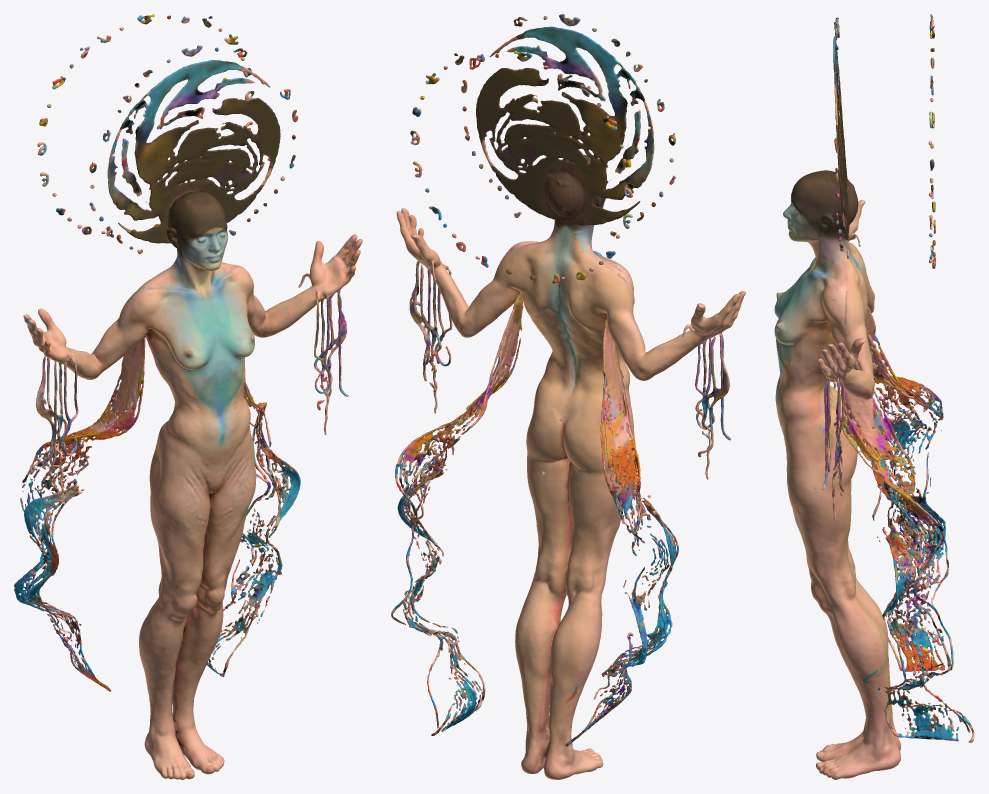
Rendered from Meshy_AI_AtAA_Invoker_to_infi_1115232653_texture.glb.
3 renders of one model, left to right at view 1: azimuth 30°, elevation 25°; view 2: azimuth 150°, elevation 25°; view 3: azimuth 270°, elevation 25°, orthographic. The views are drawn at different scales.
Size of the model in its own units: 0.9169 by 1.9 by 0.4664.
1 material, 1 textured.
